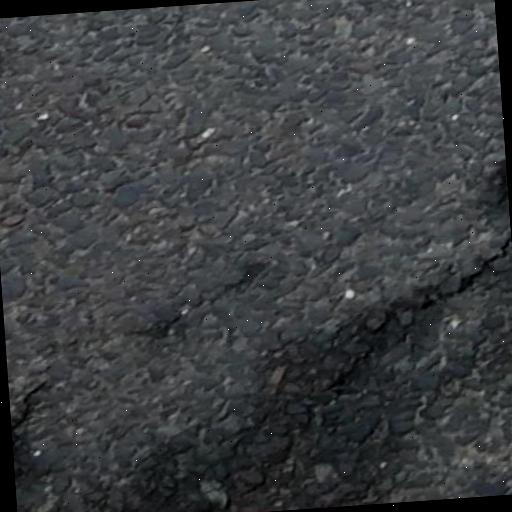spalling: (271, 221, 512, 480)
